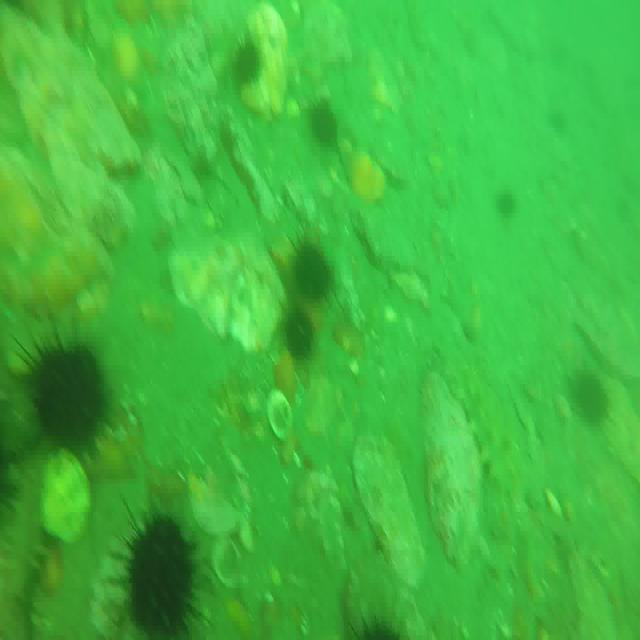echinus: (25, 326, 111, 452), (126, 508, 196, 640), (293, 228, 338, 309), (578, 367, 612, 428), (284, 302, 316, 363), (309, 94, 338, 152), (231, 36, 262, 89), (493, 187, 518, 225)
holothurian: (444, 356, 518, 580)
scallop: (213, 531, 243, 591), (264, 387, 294, 440)
